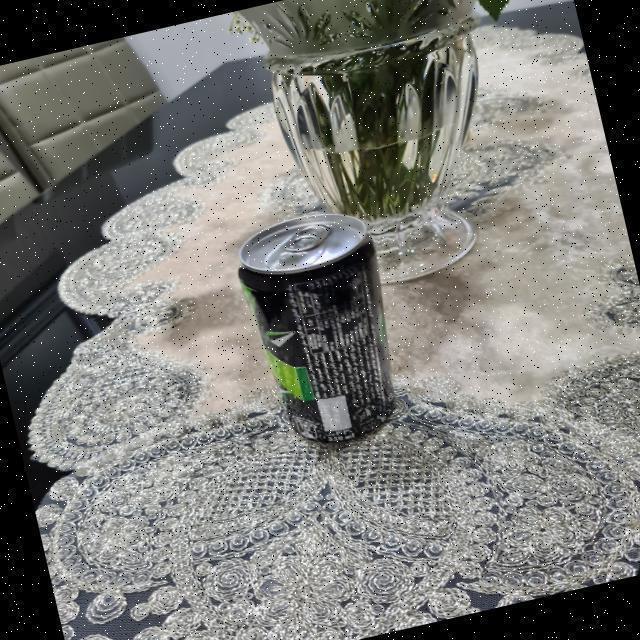can: (222, 197, 422, 468)
